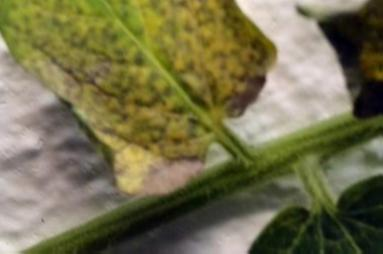Tomato leaf bacterial spot: (0, 0, 277, 186)
